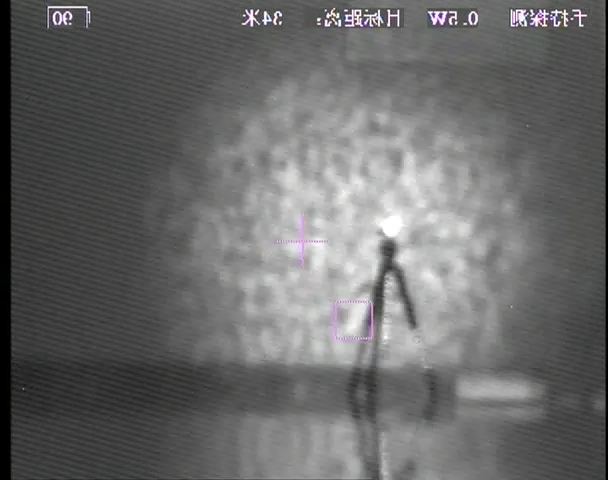my: (378, 210, 403, 240)
